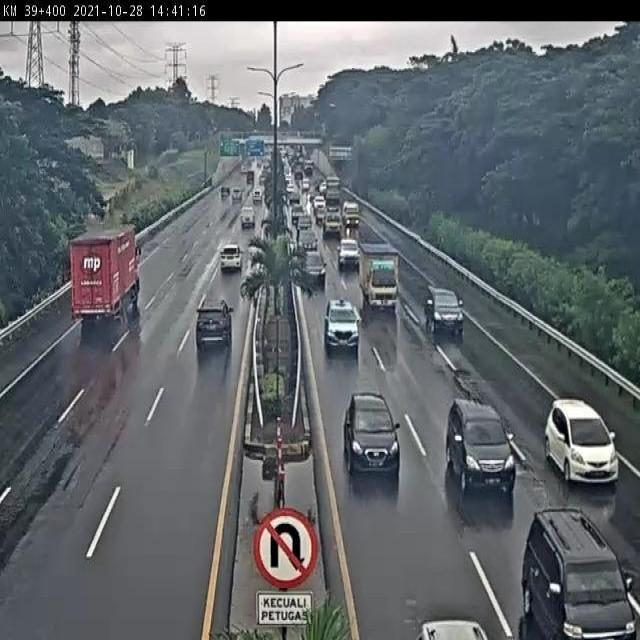car: (443, 399, 516, 496), (544, 398, 619, 486), (341, 393, 401, 478), (424, 284, 465, 336), (195, 297, 232, 351), (324, 299, 360, 352), (300, 251, 326, 288), (337, 238, 360, 270), (219, 244, 243, 272)
mid truck: (68, 223, 141, 316)
truck-m-: (359, 241, 399, 308)
